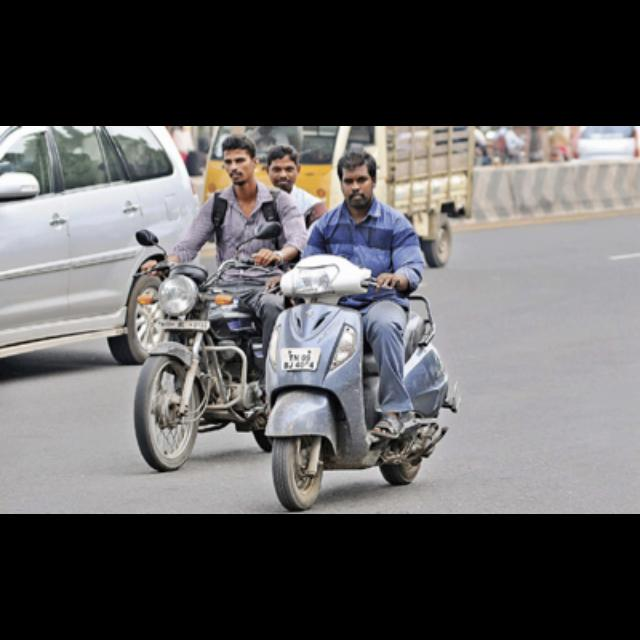Without Helmet: (332, 145, 382, 207), (216, 131, 266, 187)
